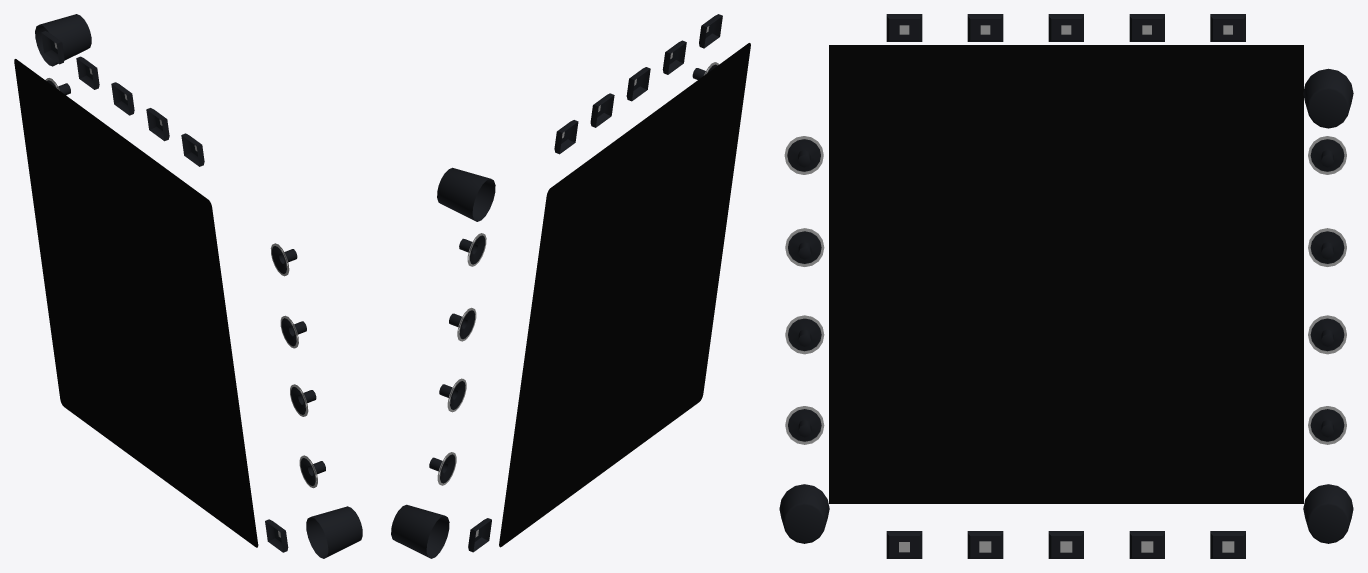
File: center_mfd.fbx
The picture shows the model from 3 angles, left to right: view 1: azimuth 30°, elevation 25°; view 2: azimuth 150°, elevation 25°; view 3: azimuth 270°, elevation 25°; orthographic projection. The views are drawn at different scales.
Visible parts, largest first — view 1: center_mfd.blackbkd, center_mfd.trim2, center_mfd.trim3, center_mfd.bt-h1, center_mfd.bt-h3, center_mfd.bt-h2, center_mfd.bt-h4, center_mfd.bt-h5, center_mfd.bt-b1, center_mfd.pot-l2, center_mfd.pot-l4, center_mfd.pot-l1 (+1 smaller); view 2: center_mfd.blackbkd, center_mfd.trim3, center_mfd.trim1, center_mfd.bt-h4, center_mfd.bt-h1, center_mfd.bt-h3, center_mfd.bt-h5, center_mfd.bt-hb5, center_mfd.bt-h2, center_mfd.pot-r2, center_mfd.pot-r1, center_mfd.pot-r3 (+1 smaller); view 3: center_mfd.blackbkdOFF, center_mfd.light, center_mfd.trim3, center_mfd.trim1, center_mfd.trim2, center_mfd.bt-h1, center_mfd.bt-h2, center_mfd.pot-r3, center_mfd.pot-l2, center_mfd.pot-l4, center_mfd.pot-r1, center_mfd.pot-r4 (+11 smaller).
Part boxes in pixels (box(x1,y1,x2,y2)): center_mfd.blackbkd: box(14, 59, 258, 547); center_mfd.trim2: box(306, 506, 362, 558); center_mfd.trim3: box(35, 14, 91, 66); center_mfd.bt-h1: box(181, 133, 204, 166); center_mfd.bt-h3: box(111, 82, 134, 115); center_mfd.bt-h2: box(146, 108, 169, 141); center_mfd.bt-h4: box(76, 56, 99, 89); center_mfd.bt-h5: box(41, 31, 64, 64); center_mfd.bt-b1: box(265, 519, 288, 552); center_mfd.pot-l2: box(280, 316, 306, 348); center_mfd.pot-l4: box(299, 456, 325, 488); center_mfd.pot-l1: box(270, 243, 297, 276); center_mfd.blackbkd: box(499, 43, 750, 547); center_mfd.trim3: box(437, 167, 495, 221); center_mfd.trim1: box(391, 504, 449, 558); center_mfd.bt-h4: box(590, 93, 614, 127); center_mfd.bt-h1: box(699, 14, 722, 48); center_mfd.bt-h3: box(626, 67, 650, 101); center_mfd.bt-h5: box(554, 120, 578, 154); center_mfd.bt-hb5: box(468, 518, 491, 552); center_mfd.bt-h2: box(662, 40, 686, 74); center_mfd.pot-r2: box(449, 308, 476, 341); center_mfd.pot-r1: box(459, 233, 486, 266); center_mfd.pot-r3: box(439, 379, 466, 412); center_mfd.blackbkdOFF: box(829, 45, 1303, 503); center_mfd.light: box(784, 26, 1346, 552); center_mfd.trim3: box(1303, 68, 1353, 128); center_mfd.trim1: box(1303, 484, 1353, 543); center_mfd.trim2: box(779, 484, 829, 543); center_mfd.bt-h1: box(886, 14, 922, 41); center_mfd.bt-h2: box(967, 14, 1003, 41); center_mfd.pot-r3: box(1308, 315, 1346, 351); center_mfd.pot-l2: box(785, 228, 823, 264); center_mfd.pot-l4: box(785, 406, 823, 442); center_mfd.pot-r1: box(1308, 136, 1346, 172); center_mfd.pot-r4: box(1308, 406, 1346, 442).
Bounding box in the file's own units: 5.39 × 17.73 × 16.87.
